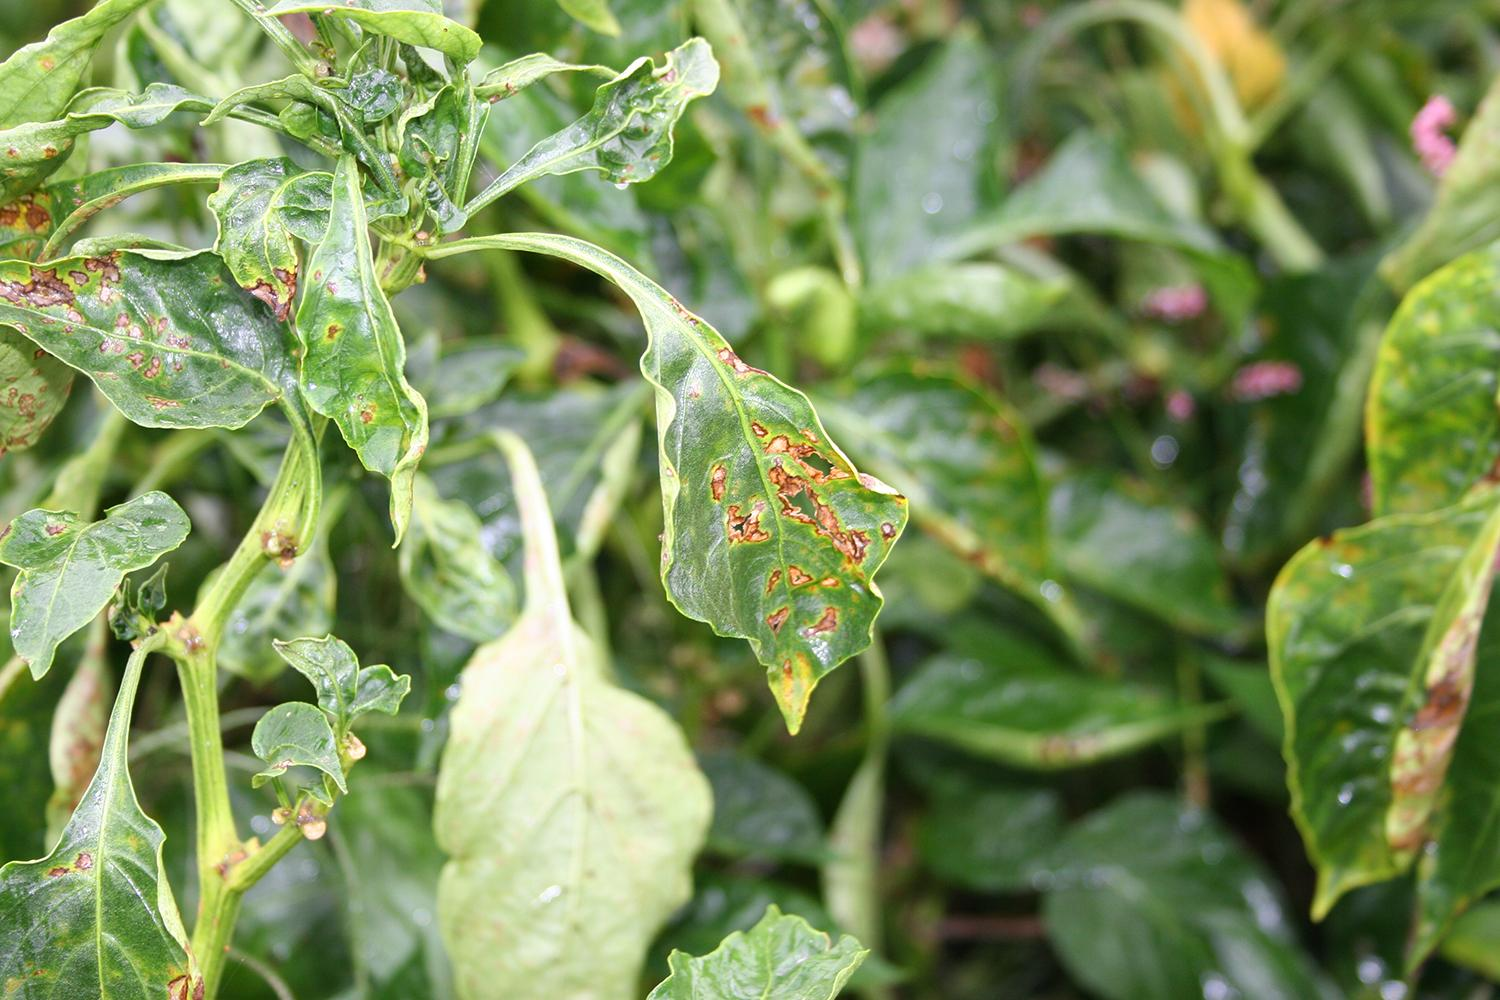Tomato leaf late blight: (588, 267, 931, 740), (1247, 475, 1487, 936), (17, 204, 271, 433), (279, 180, 459, 489)
